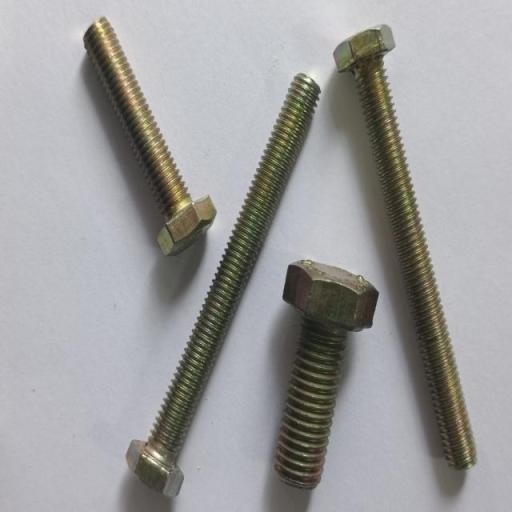Bolt: (125, 71, 322, 501), (333, 24, 479, 473), (82, 16, 218, 258), (273, 258, 380, 492)
